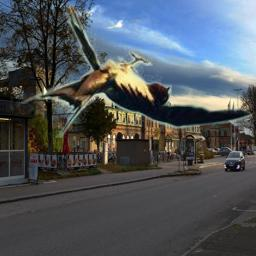Swallow: (0, 5, 256, 138)
